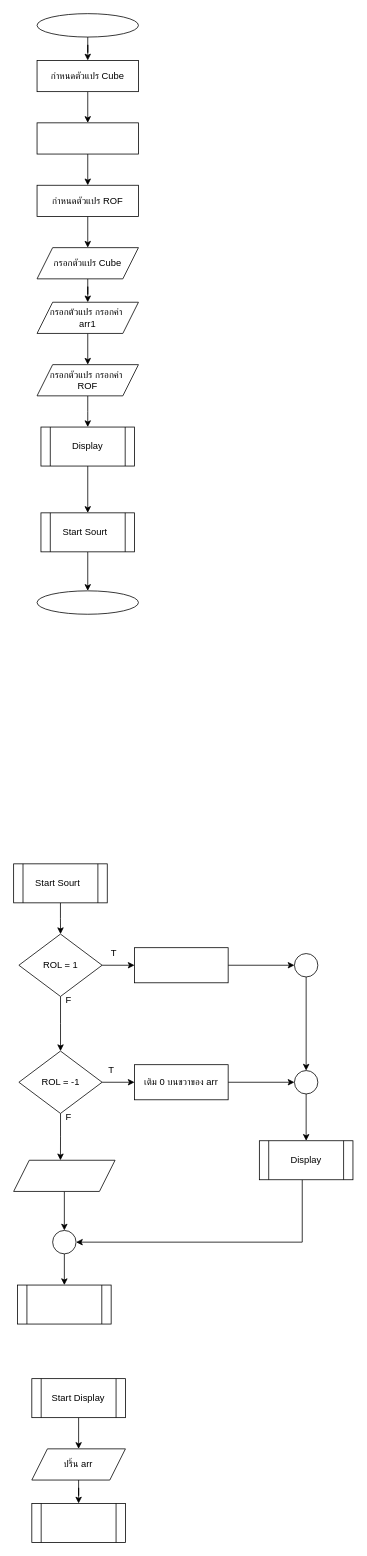
Some shapes in this 367 by 1556 pixel diagram are drawn without their labels. The centre of each missing label's shape, as x and y in pixels:
"End" belongs at point (87, 602).
"End display" belongs at point (78, 1522).
"End Sourt" belongs at point (64, 1304).
"Err" belongs at point (64, 1175).
"Start" belongs at point (87, 25).
"กำหนดตัวแปร arrinput 1" belongs at point (87, 138).
"เติม 0 บนซ้ายของ arr" belongs at point (181, 965).
